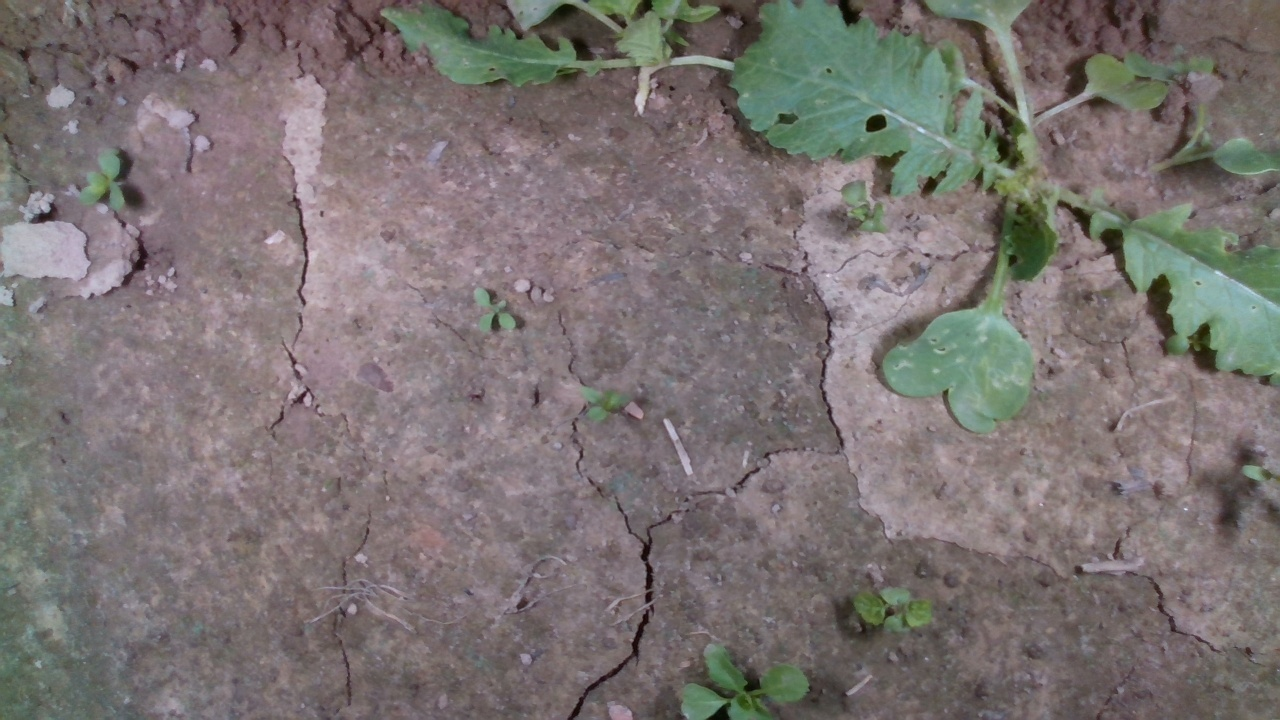weed: (852, 581, 934, 632), (570, 383, 645, 426), (471, 284, 517, 334)
